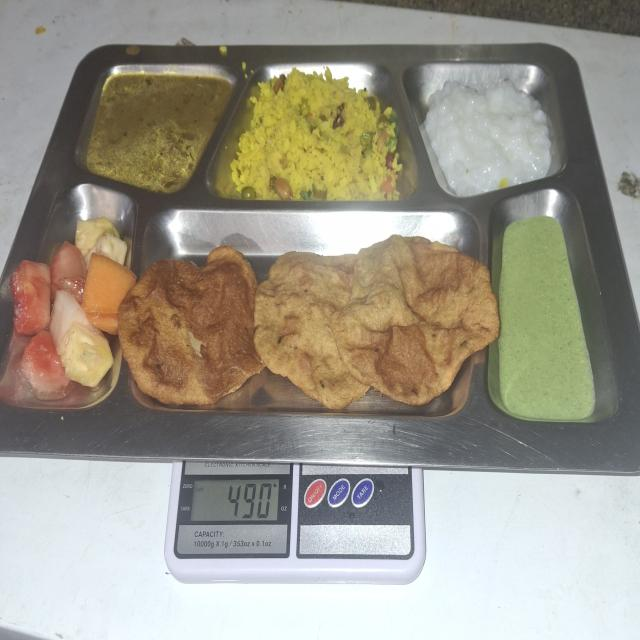Chutney: (501, 220, 597, 425)
Dal: (93, 67, 227, 198)
Mix Fruit: (12, 197, 125, 402)
Poha: (237, 69, 402, 202)
Poori: (125, 216, 500, 413)
Porridge: (420, 76, 564, 200)
